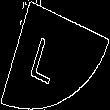L_N: (37, 26, 73, 84)
